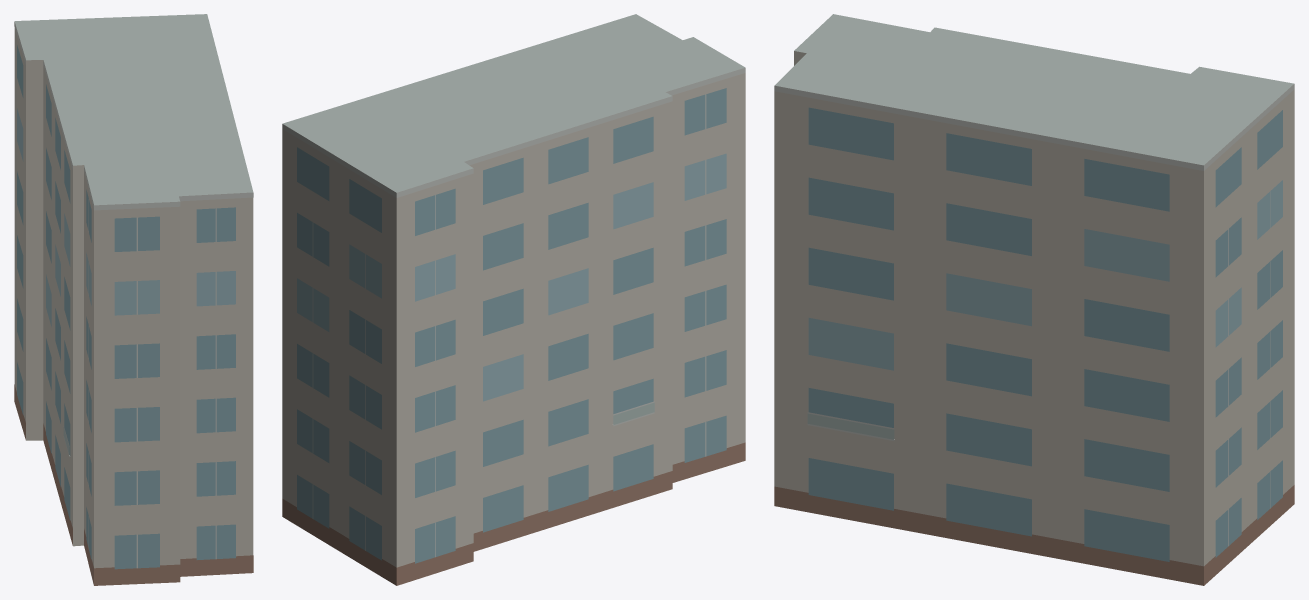
File: survey-upis-32542571.glb
3 renders of one model, left to right at view 1: azimuth 30°, elevation 25°; view 2: azimuth 150°, elevation 25°; view 3: azimuth 270°, elevation 25°, orthographic. The views are drawn at different scales.
Visible parts, largest first — view 1: survey-upis-32542571.tmp; view 2: survey-upis-32542571.tmp; view 3: survey-upis-32542571.tmp.
Part boxes in pixels (x1,y1,x2,y2): survey-upis-32542571.tmp: (14,14,253,585); survey-upis-32542571.tmp: (282,14,745,585); survey-upis-32542571.tmp: (774,14,1294,585).
Bounding box in the file's own units: 14.15 × 18.3 × 20.52.
